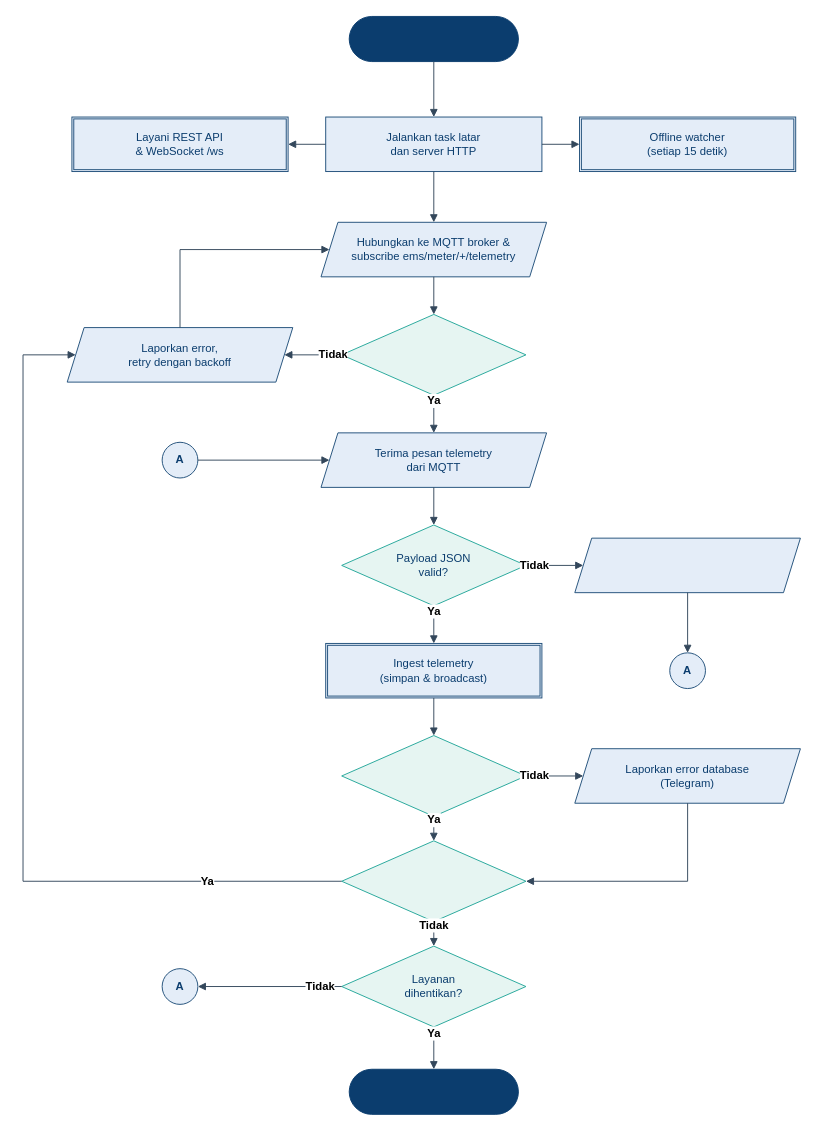
Image size: 817x1131. Some labels were removed from this diagram. The box of each missing label's shape, as (x1, y1, x2, y2) in pixels:
Koneksi MQTT terputus?: (341, 840, 526, 922)
Laporkan payload tidak valid (Telegram): (574, 537, 800, 593)
MULAI Backend API: (348, 16, 518, 62)
Penyimpanan berhasil?: (341, 735, 526, 816)
SELESAI: (348, 1068, 518, 1114)
Terhubung?: (341, 313, 526, 395)
